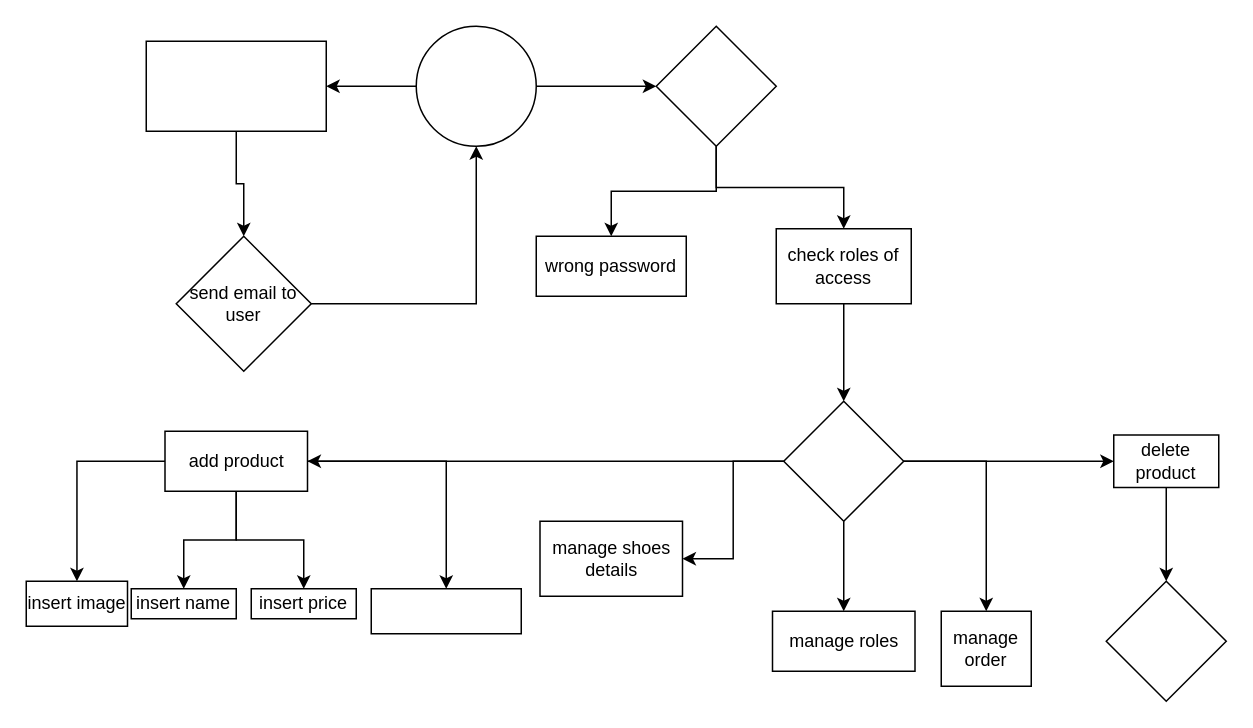
The diagram is 1253 pixels wide and 728 high, and some of its shapes have lost their labels. Here are the shapes that lost their labels. From the top down, the centre of each, then its label:
the point at 235,85: forgot password
the point at 475,85: login to system
the point at 715,85: check creditentials
the point at 843,460: manage modules
the point at 445,610: insert description
the point at 1165,640: confirmation message
